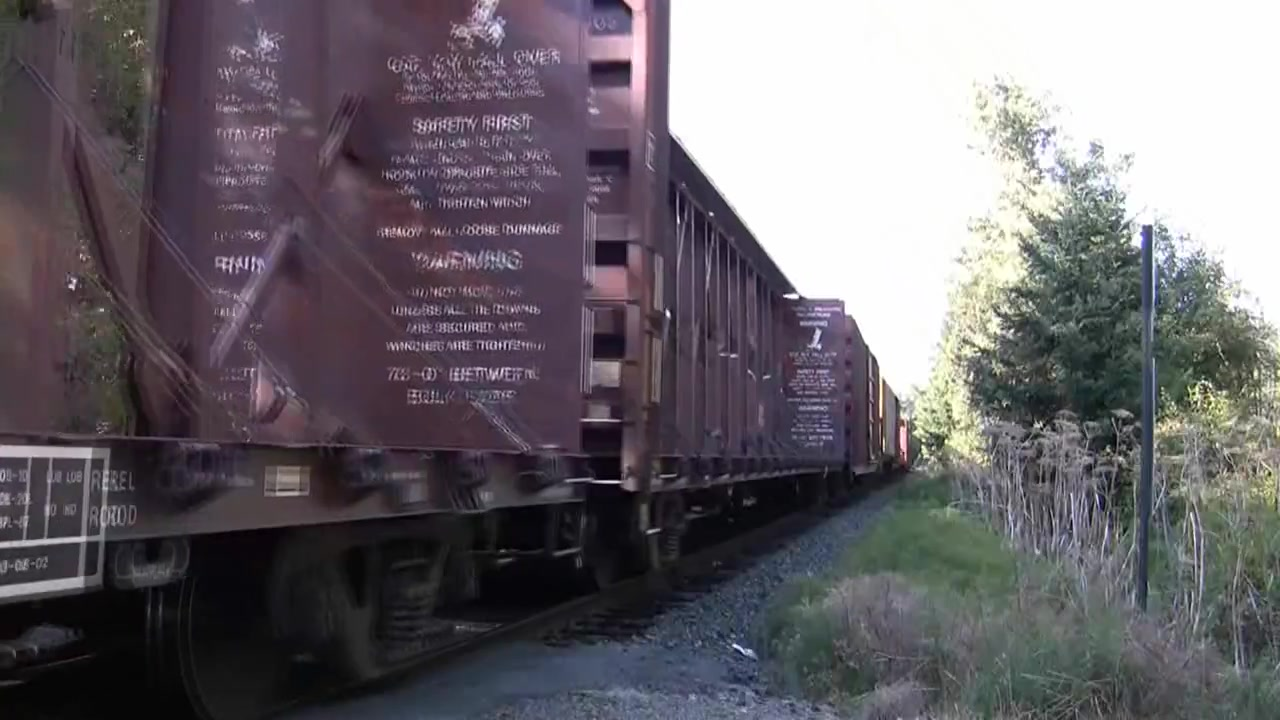train: (1, 1, 920, 720)
